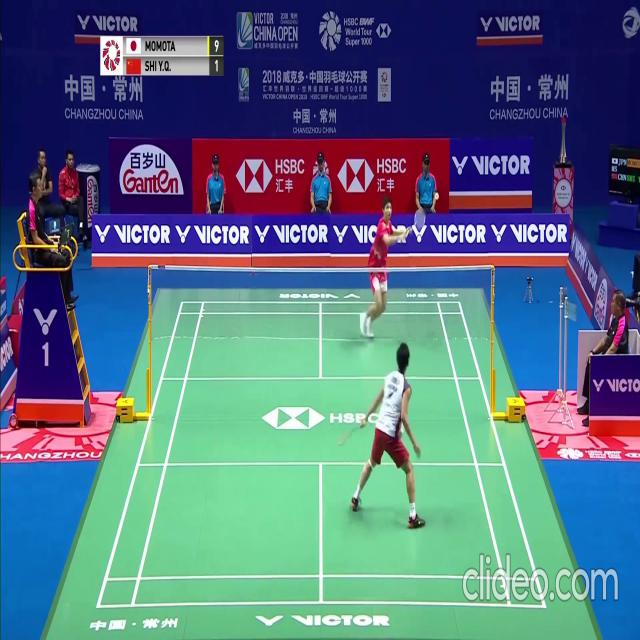Shuttlecock: (434, 192, 439, 199)
